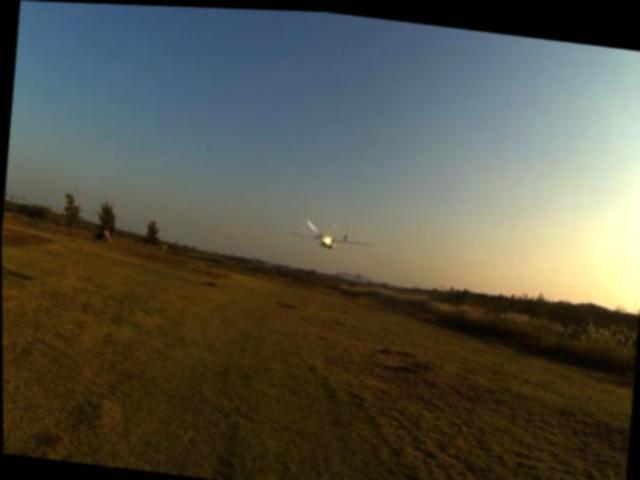uav: (272, 208, 378, 268)
